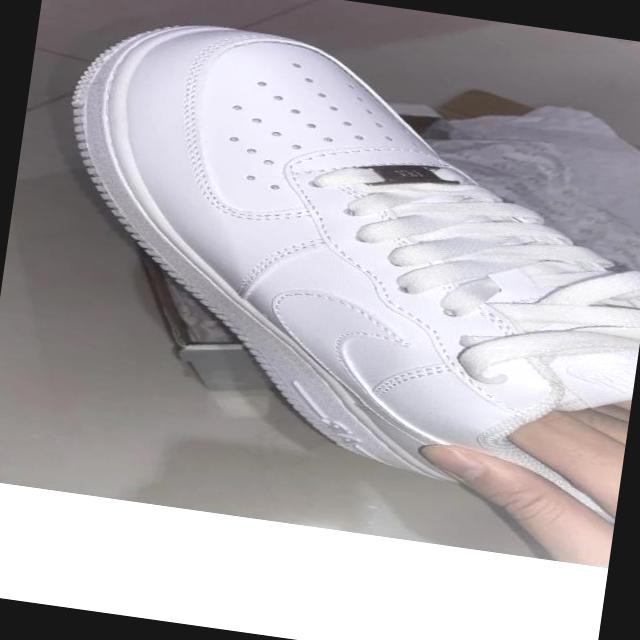nike_fake_airforce: (15, 0, 640, 504)
